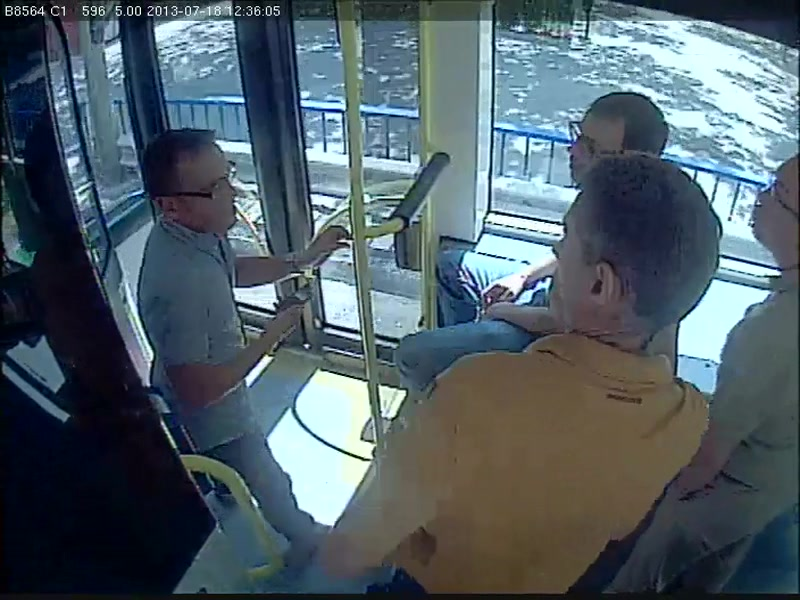Head: (550, 161, 720, 352), (136, 125, 245, 239), (561, 86, 672, 187), (740, 143, 799, 288)
